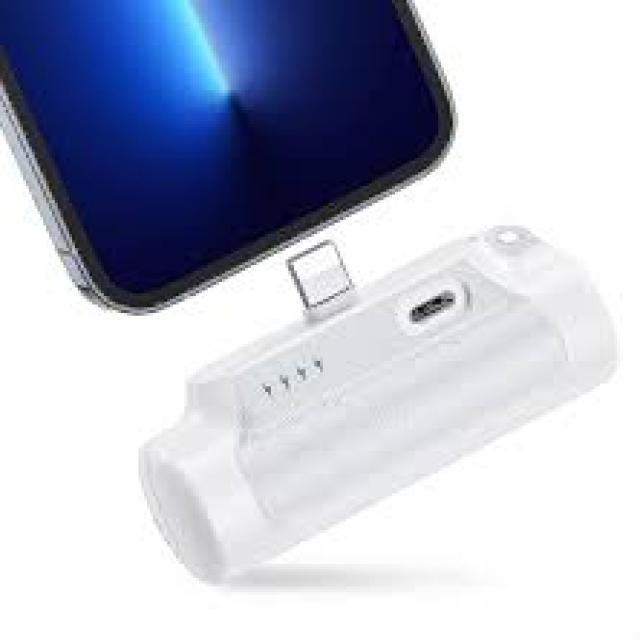portable-charger: (132, 226, 617, 582)
